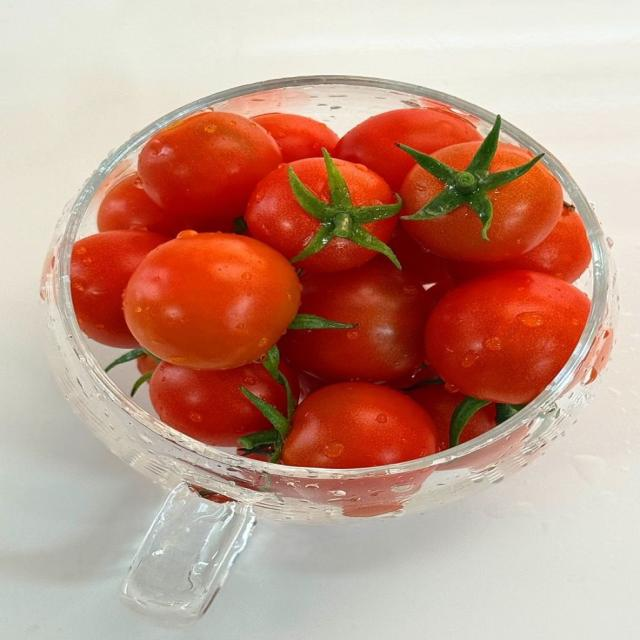tomato: (125, 232, 299, 369), (426, 271, 590, 404), (281, 257, 428, 382), (246, 158, 397, 272), (139, 112, 281, 230), (403, 163, 563, 262), (282, 382, 439, 469), (335, 109, 481, 190), (150, 363, 286, 446), (71, 231, 167, 347), (447, 205, 591, 282), (98, 173, 192, 237), (252, 113, 338, 162), (408, 385, 464, 450), (389, 226, 450, 284), (387, 365, 438, 390), (298, 372, 326, 399), (137, 355, 159, 375)
